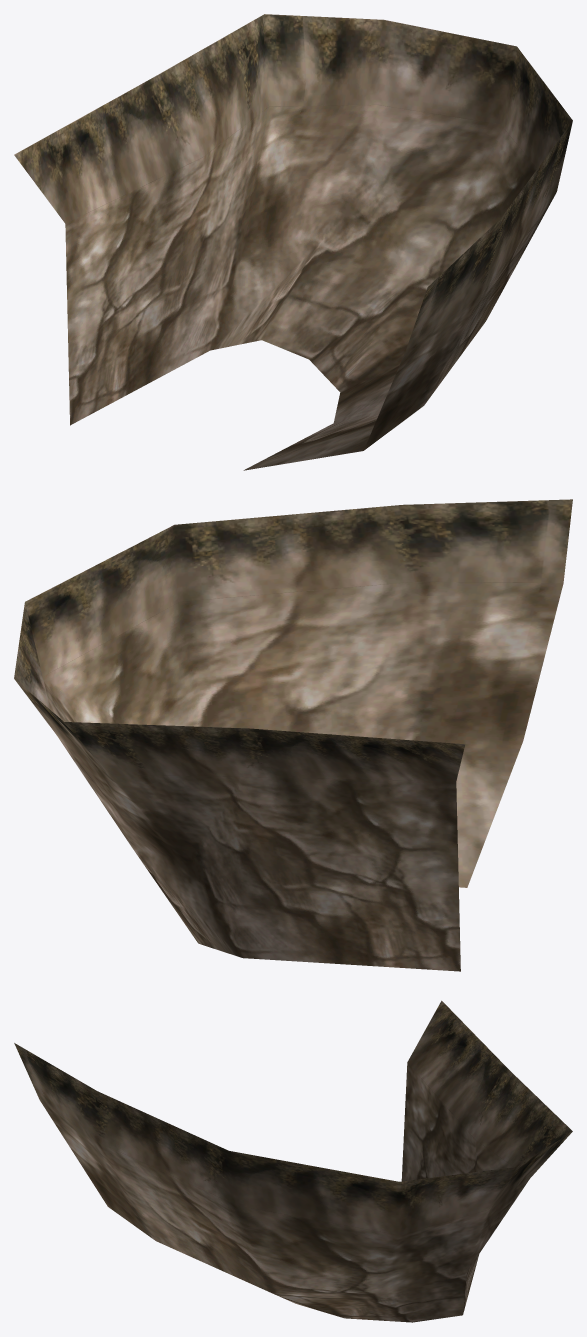
Rendered from OVERHILL_A_01_ROCK_SLAB_04.fbx.
3 renders of one model, top to bottom at view 1: azimuth 30°, elevation 25°; view 2: azimuth 150°, elevation 25°; view 3: azimuth 270°, elevation 25°, orthographic. The views are drawn at different scales.
Visible parts, largest first — view 1: OVERHILL_A_01_ROCK_SLAB_04; view 2: OVERHILL_A_01_ROCK_SLAB_04; view 3: OVERHILL_A_01_ROCK_SLAB_04.
Part boxes in pixels (left/top/right/bottom): OVERHILL_A_01_ROCK_SLAB_04: left=14, top=14, right=572, bottom=470; OVERHILL_A_01_ROCK_SLAB_04: left=14, top=499, right=572, bottom=971; OVERHILL_A_01_ROCK_SLAB_04: left=14, top=1000, right=572, bottom=1322.
Size of the model in its own units: 45741 by 26037 by 56827.
2 materials, 2 textured.
